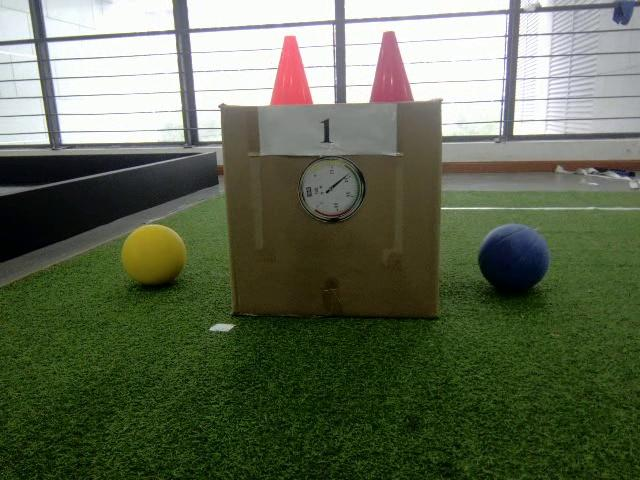1: (316, 118, 340, 149)
Dashboard: (299, 157, 366, 223)
blue_ball: (480, 223, 551, 293)
orange_barrel: (268, 36, 310, 106)
red_barrel: (368, 30, 415, 103)
ssi: (305, 183, 315, 202)
yellow_ball: (120, 224, 187, 288)
